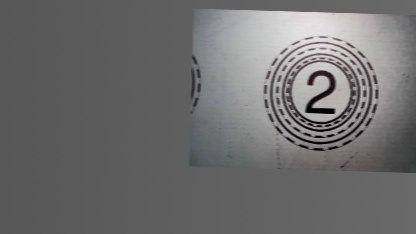2r: (262, 34, 379, 153)
